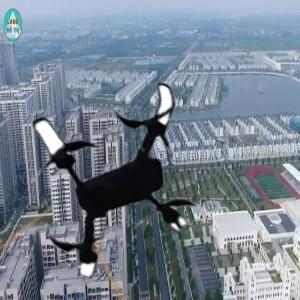drone: (3, 64, 217, 278)
